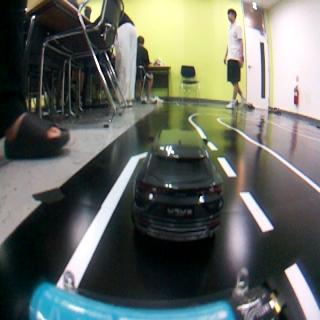car: (124, 124, 225, 250)
